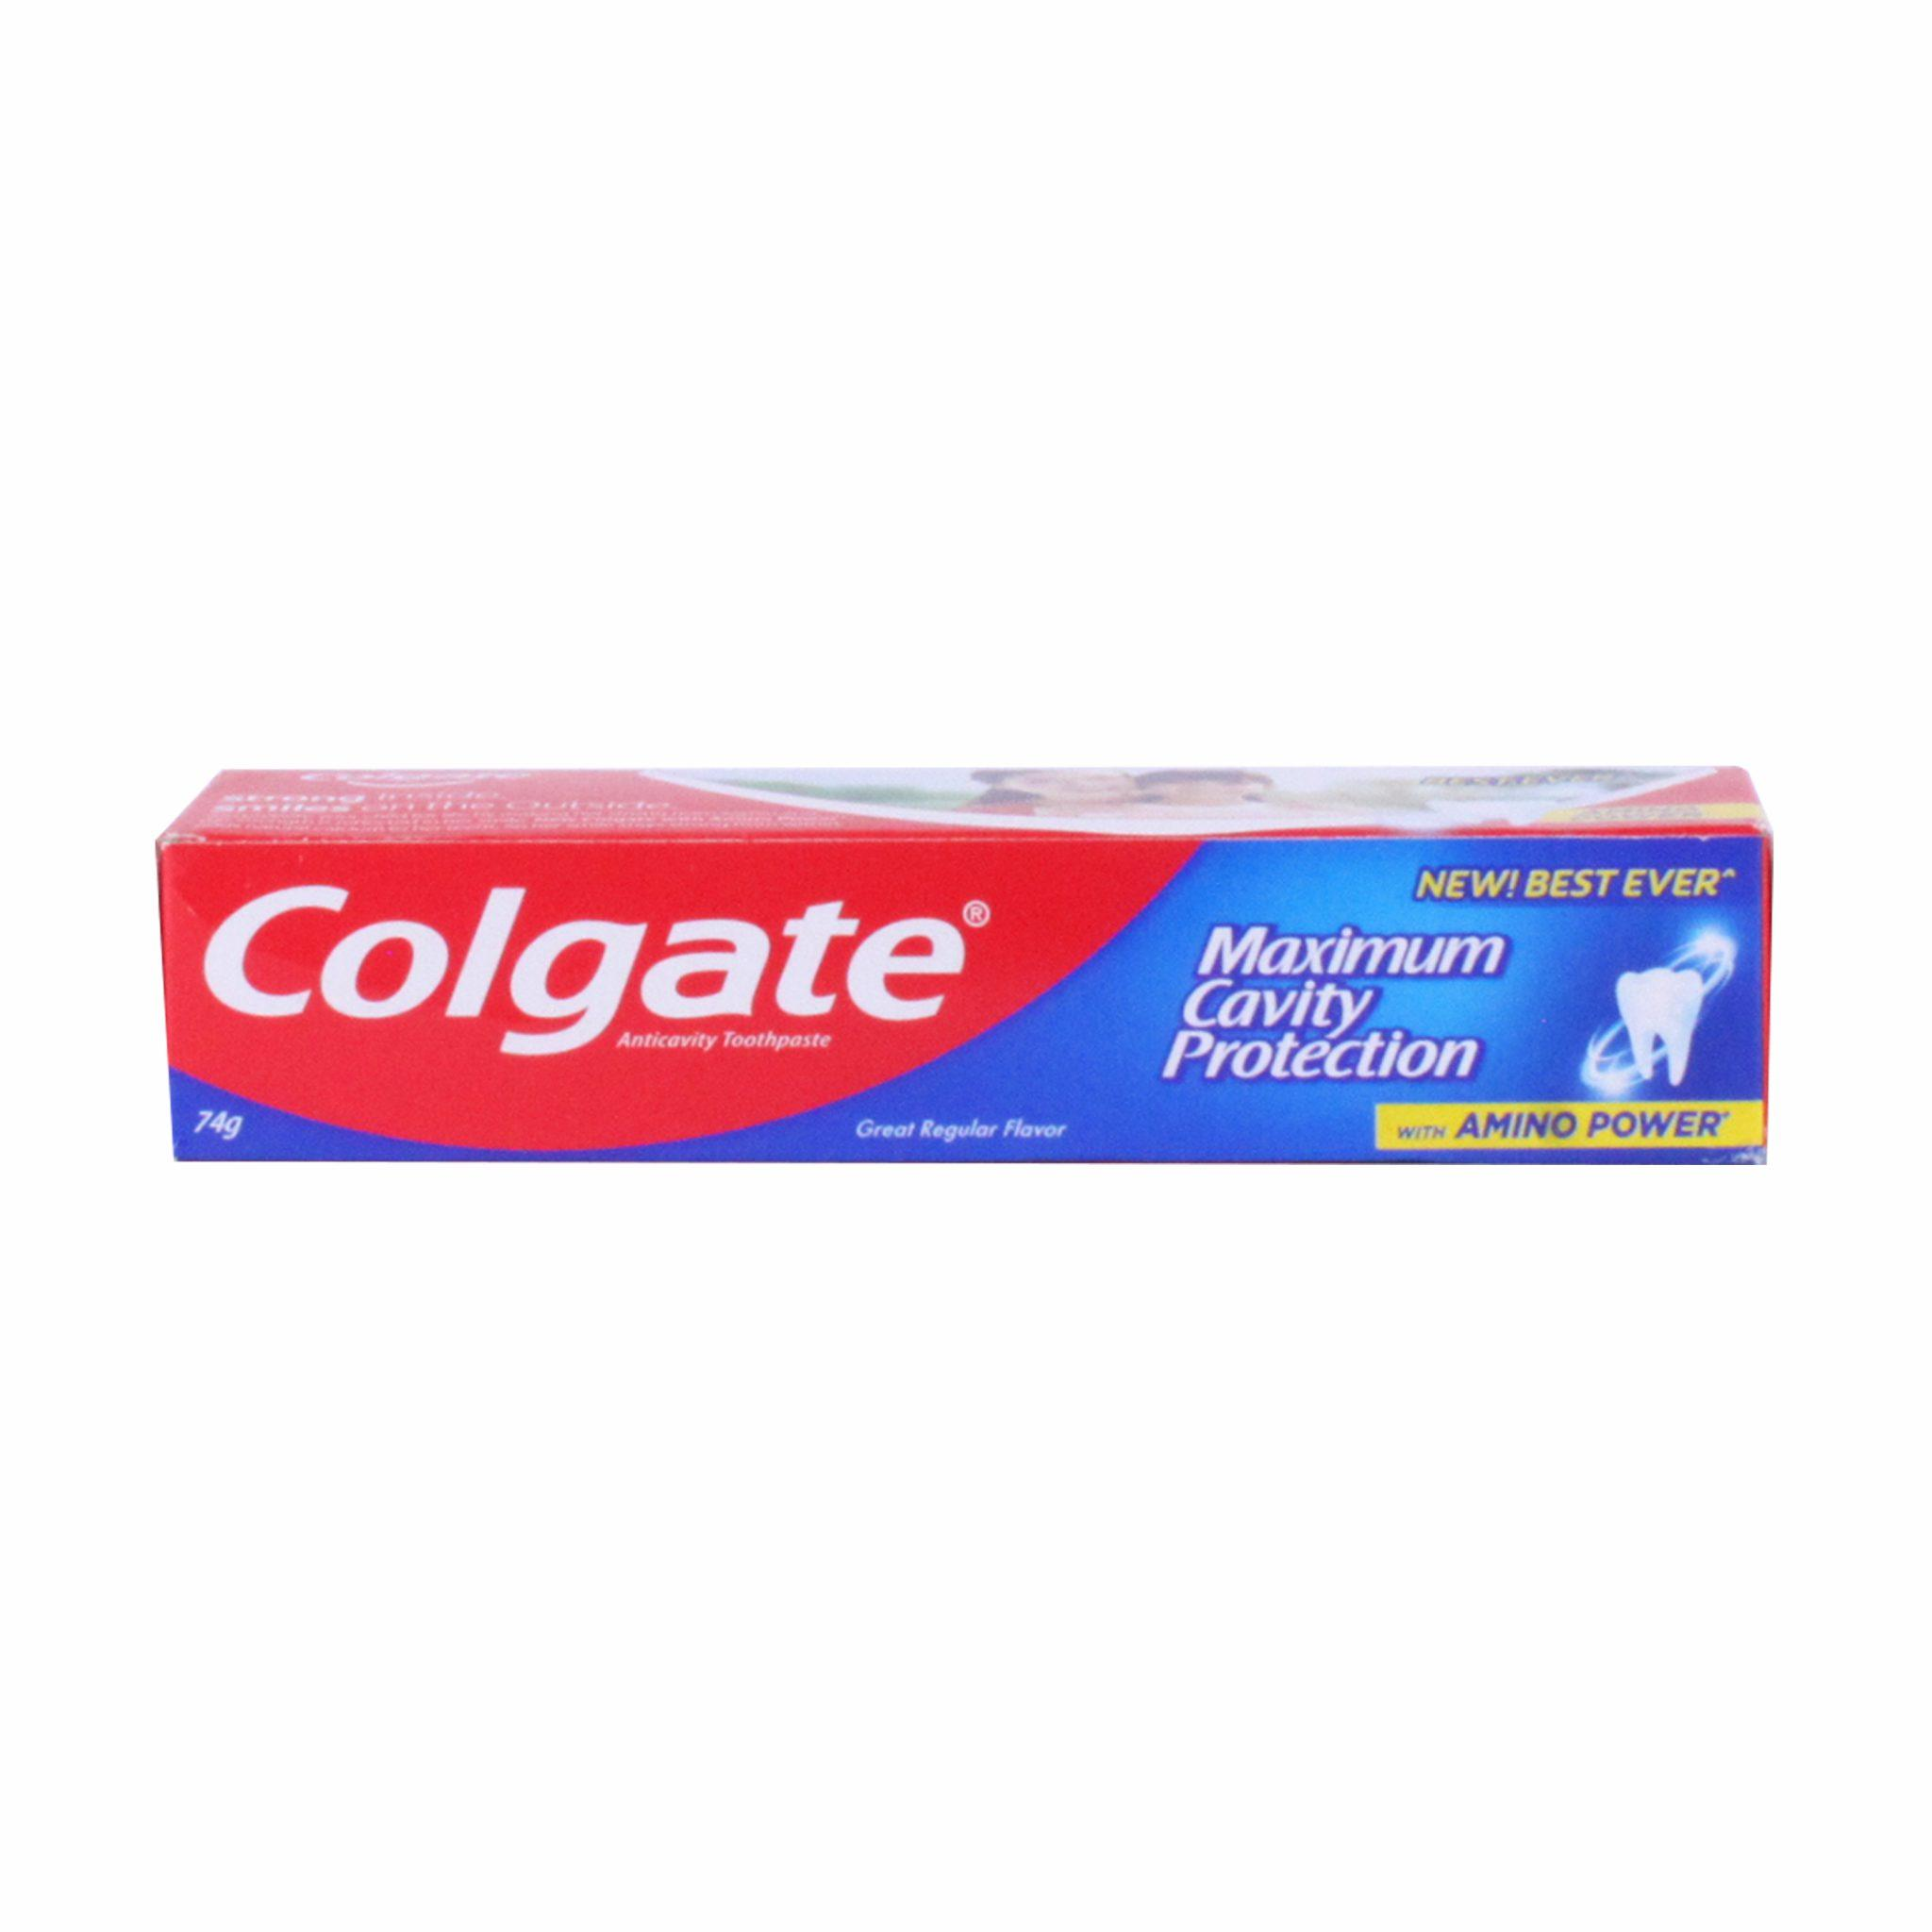toothpaste: (120, 718, 1792, 1207)
